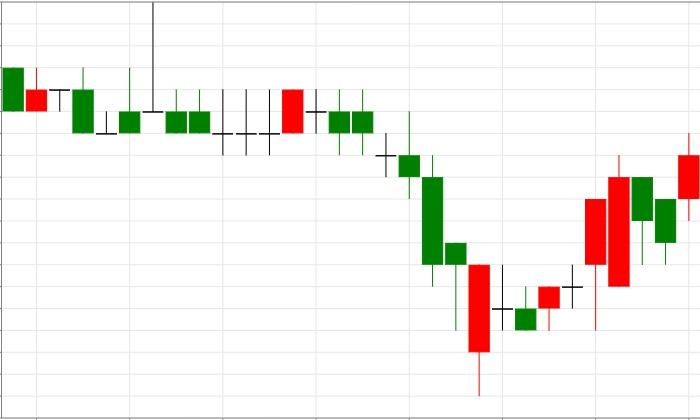hammer_rise: (328, 89, 466, 331)
